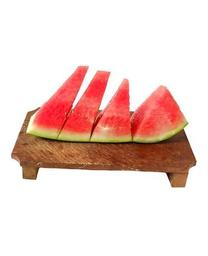watermelon: (27, 64, 189, 144)
